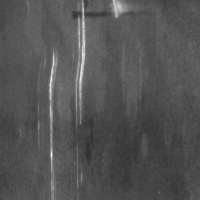scratches: (45, 50, 63, 199), (71, 3, 91, 131)
